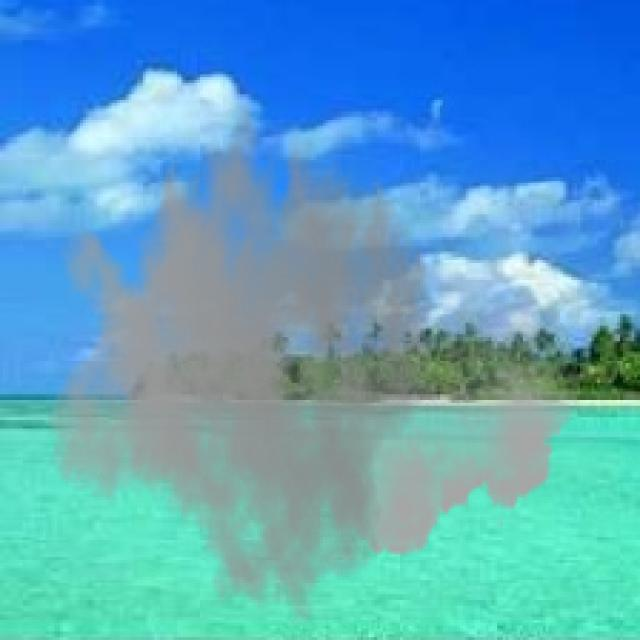Smoke: (46, 77, 580, 626)
